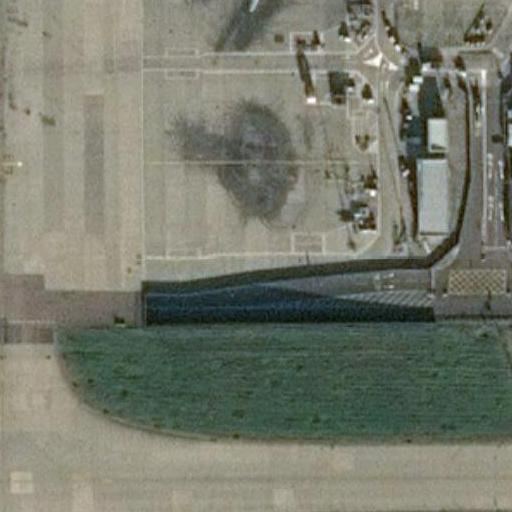Aircraft: (196, 0, 320, 18), (193, 0, 321, 13)
